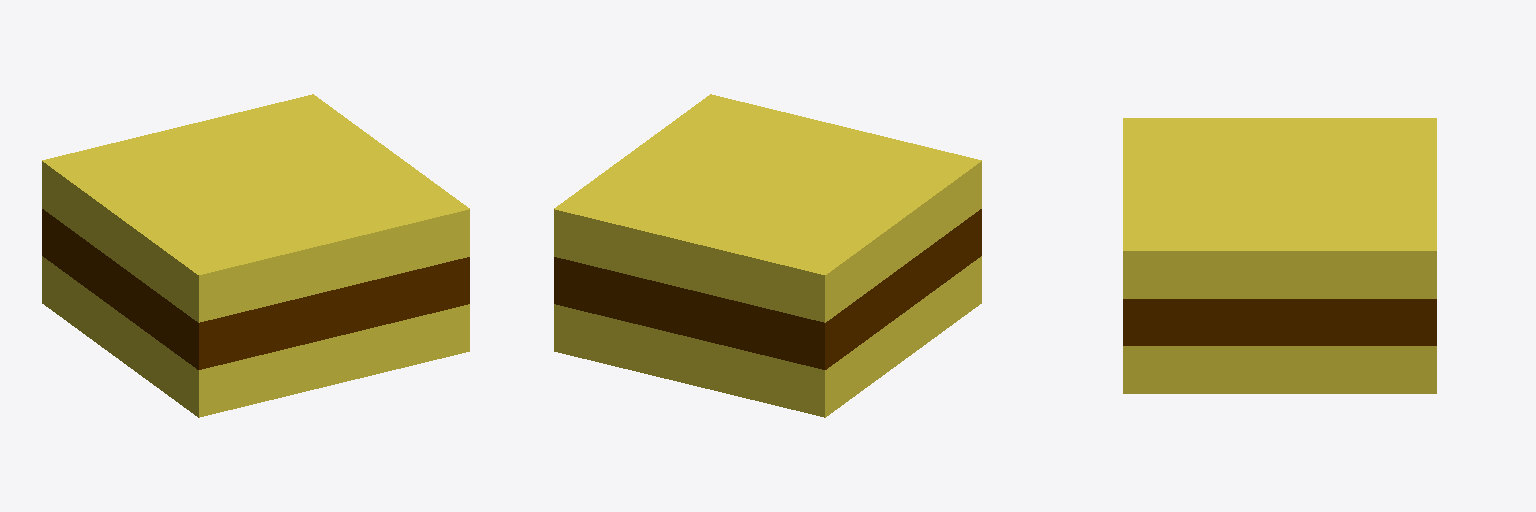
The picture shows the model from 3 angles: view 1: azimuth 30°, elevation 25°; view 2: azimuth 150°, elevation 25°; view 3: azimuth 270°, elevation 25°; orthographic projection.
Size of the model in its own units: 6 by 3 by 6.
1 materials, 1 textured.